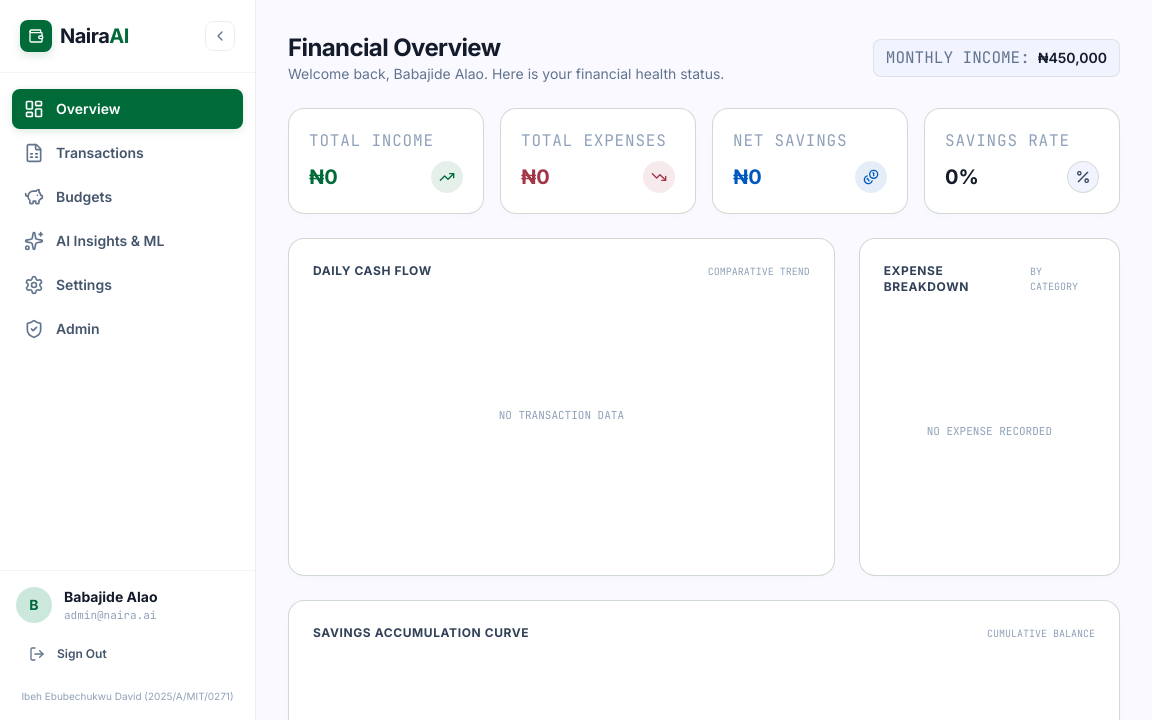
Test: Admin tab › renders the category taxonomy list
expect the heading "Financial Overview" is shown: met, box [288,33,500,62]
Click the button "Admin". click: (128, 329)
box: [12,309,243,349]
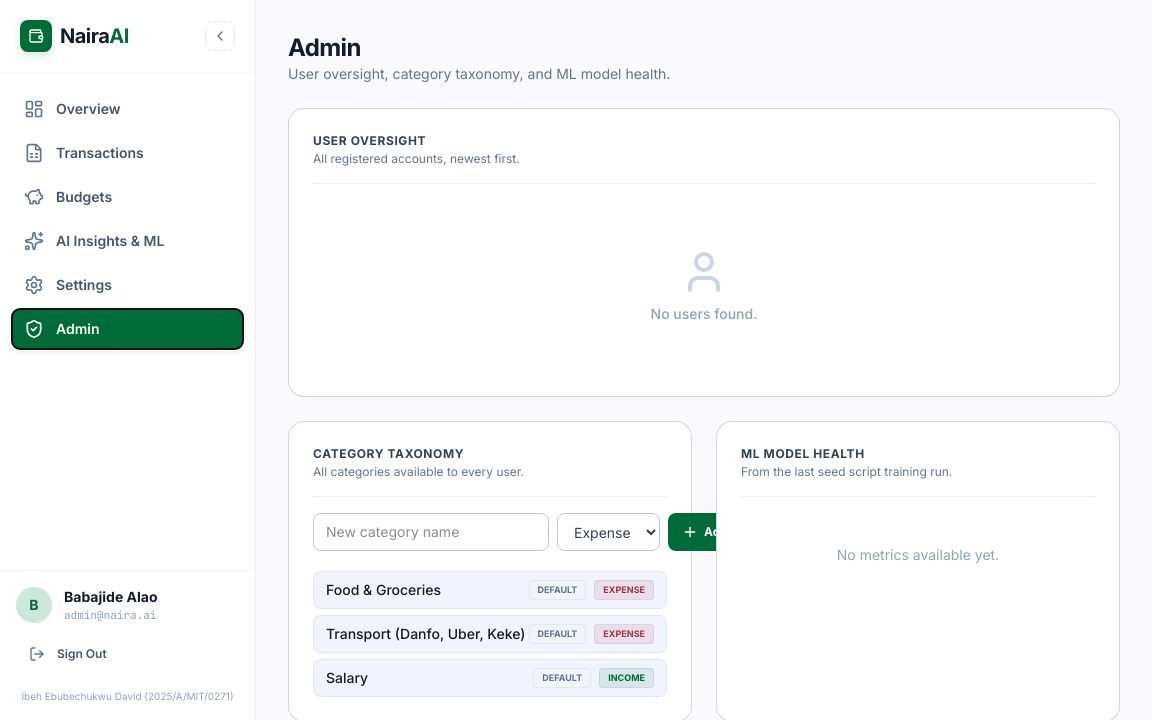
expect the heading "User Oversight" is shown: met, box [313,133,426,148]
expect the text "Food & Groceries" is shown: met, box [326,580,441,600]
expect the text "Salary" is shown: met, box [326,668,368,688]
